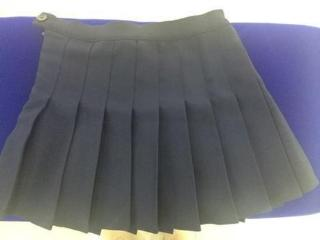skirt: (0, 9, 319, 236)
